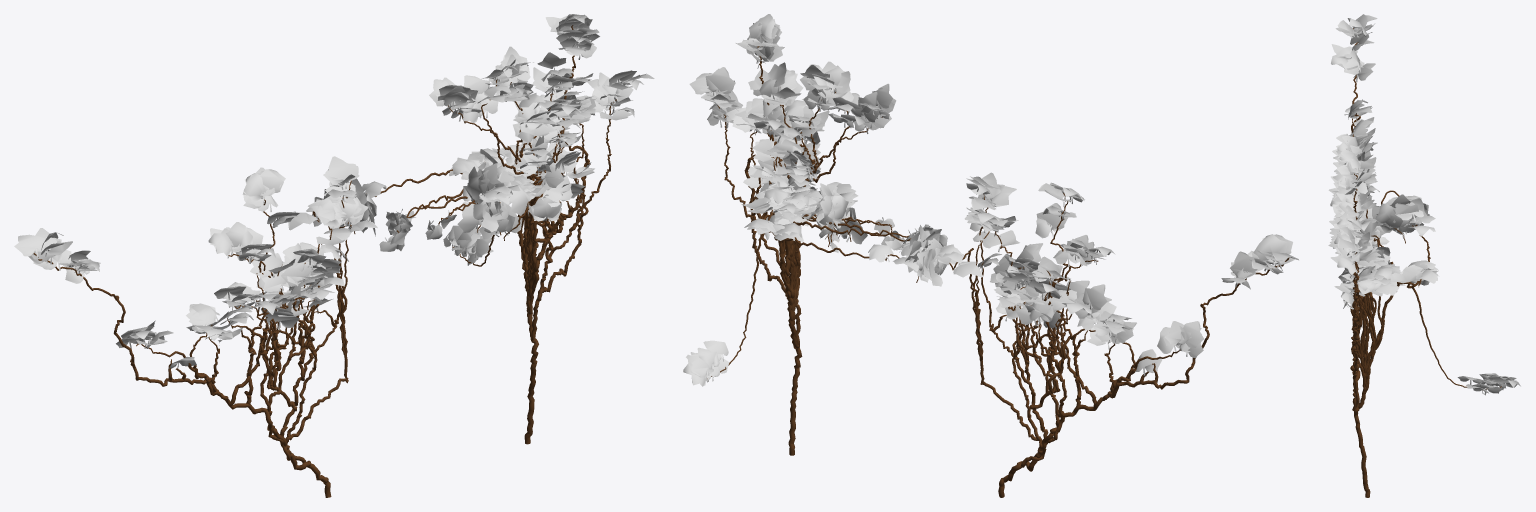
Rendered from garden_pillar_ivy_05.fbx.
The picture shows the model from 3 angles, left to right: view 1: azimuth 30°, elevation 25°; view 2: azimuth 150°, elevation 25°; view 3: azimuth 270°, elevation 25°; orthographic projection. The views are drawn at different scales.
Parts seen in each view (by area): view 1: IVY_Curve.006; view 2: IVY_Curve.006; view 3: IVY_Curve.006.
Boxes of the visible parts, x1=… form: IVY_Curve.006: x1=14, y1=14, x2=654, y2=497; IVY_Curve.006: x1=683, y1=14, x2=1298, y2=497; IVY_Curve.006: x1=1328, y1=14, x2=1520, y2=497.
Bounding box in the file's own units: 13.17 × 8.63 × 4.19.
